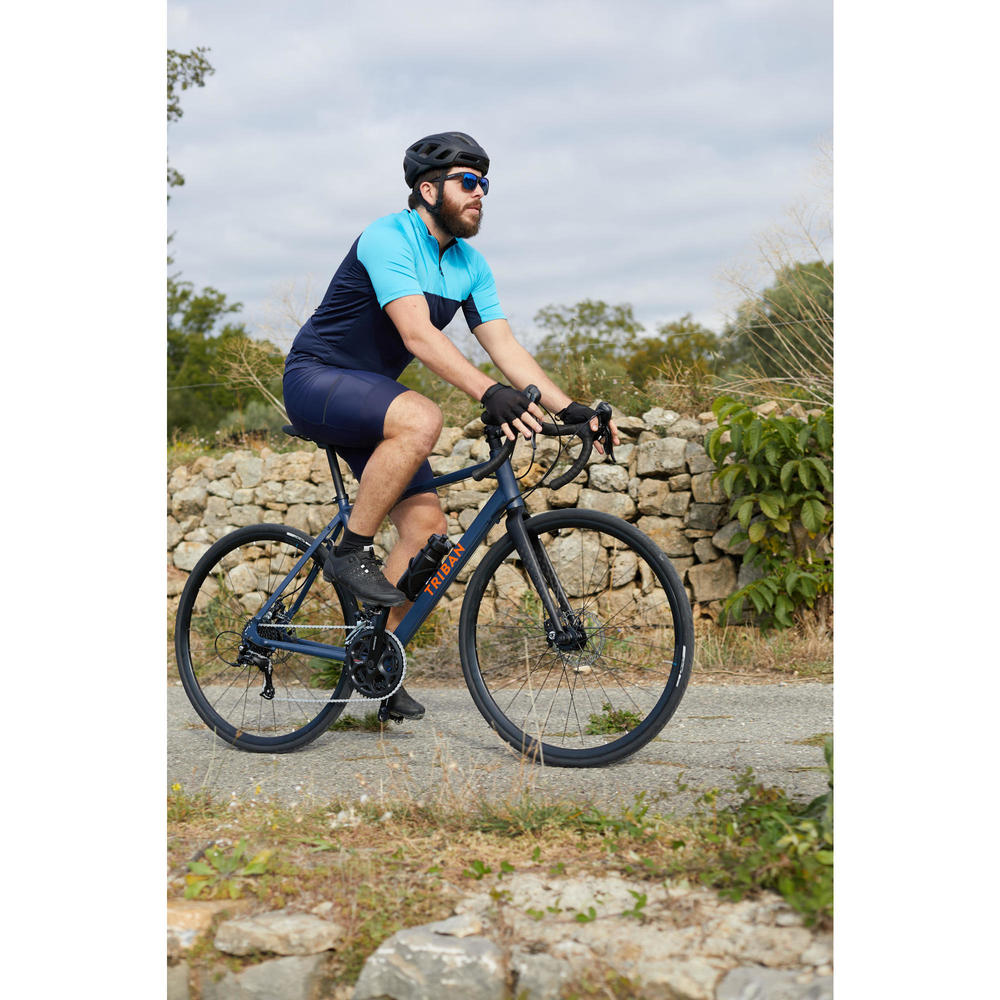RoadBike: (179, 390, 706, 779)
